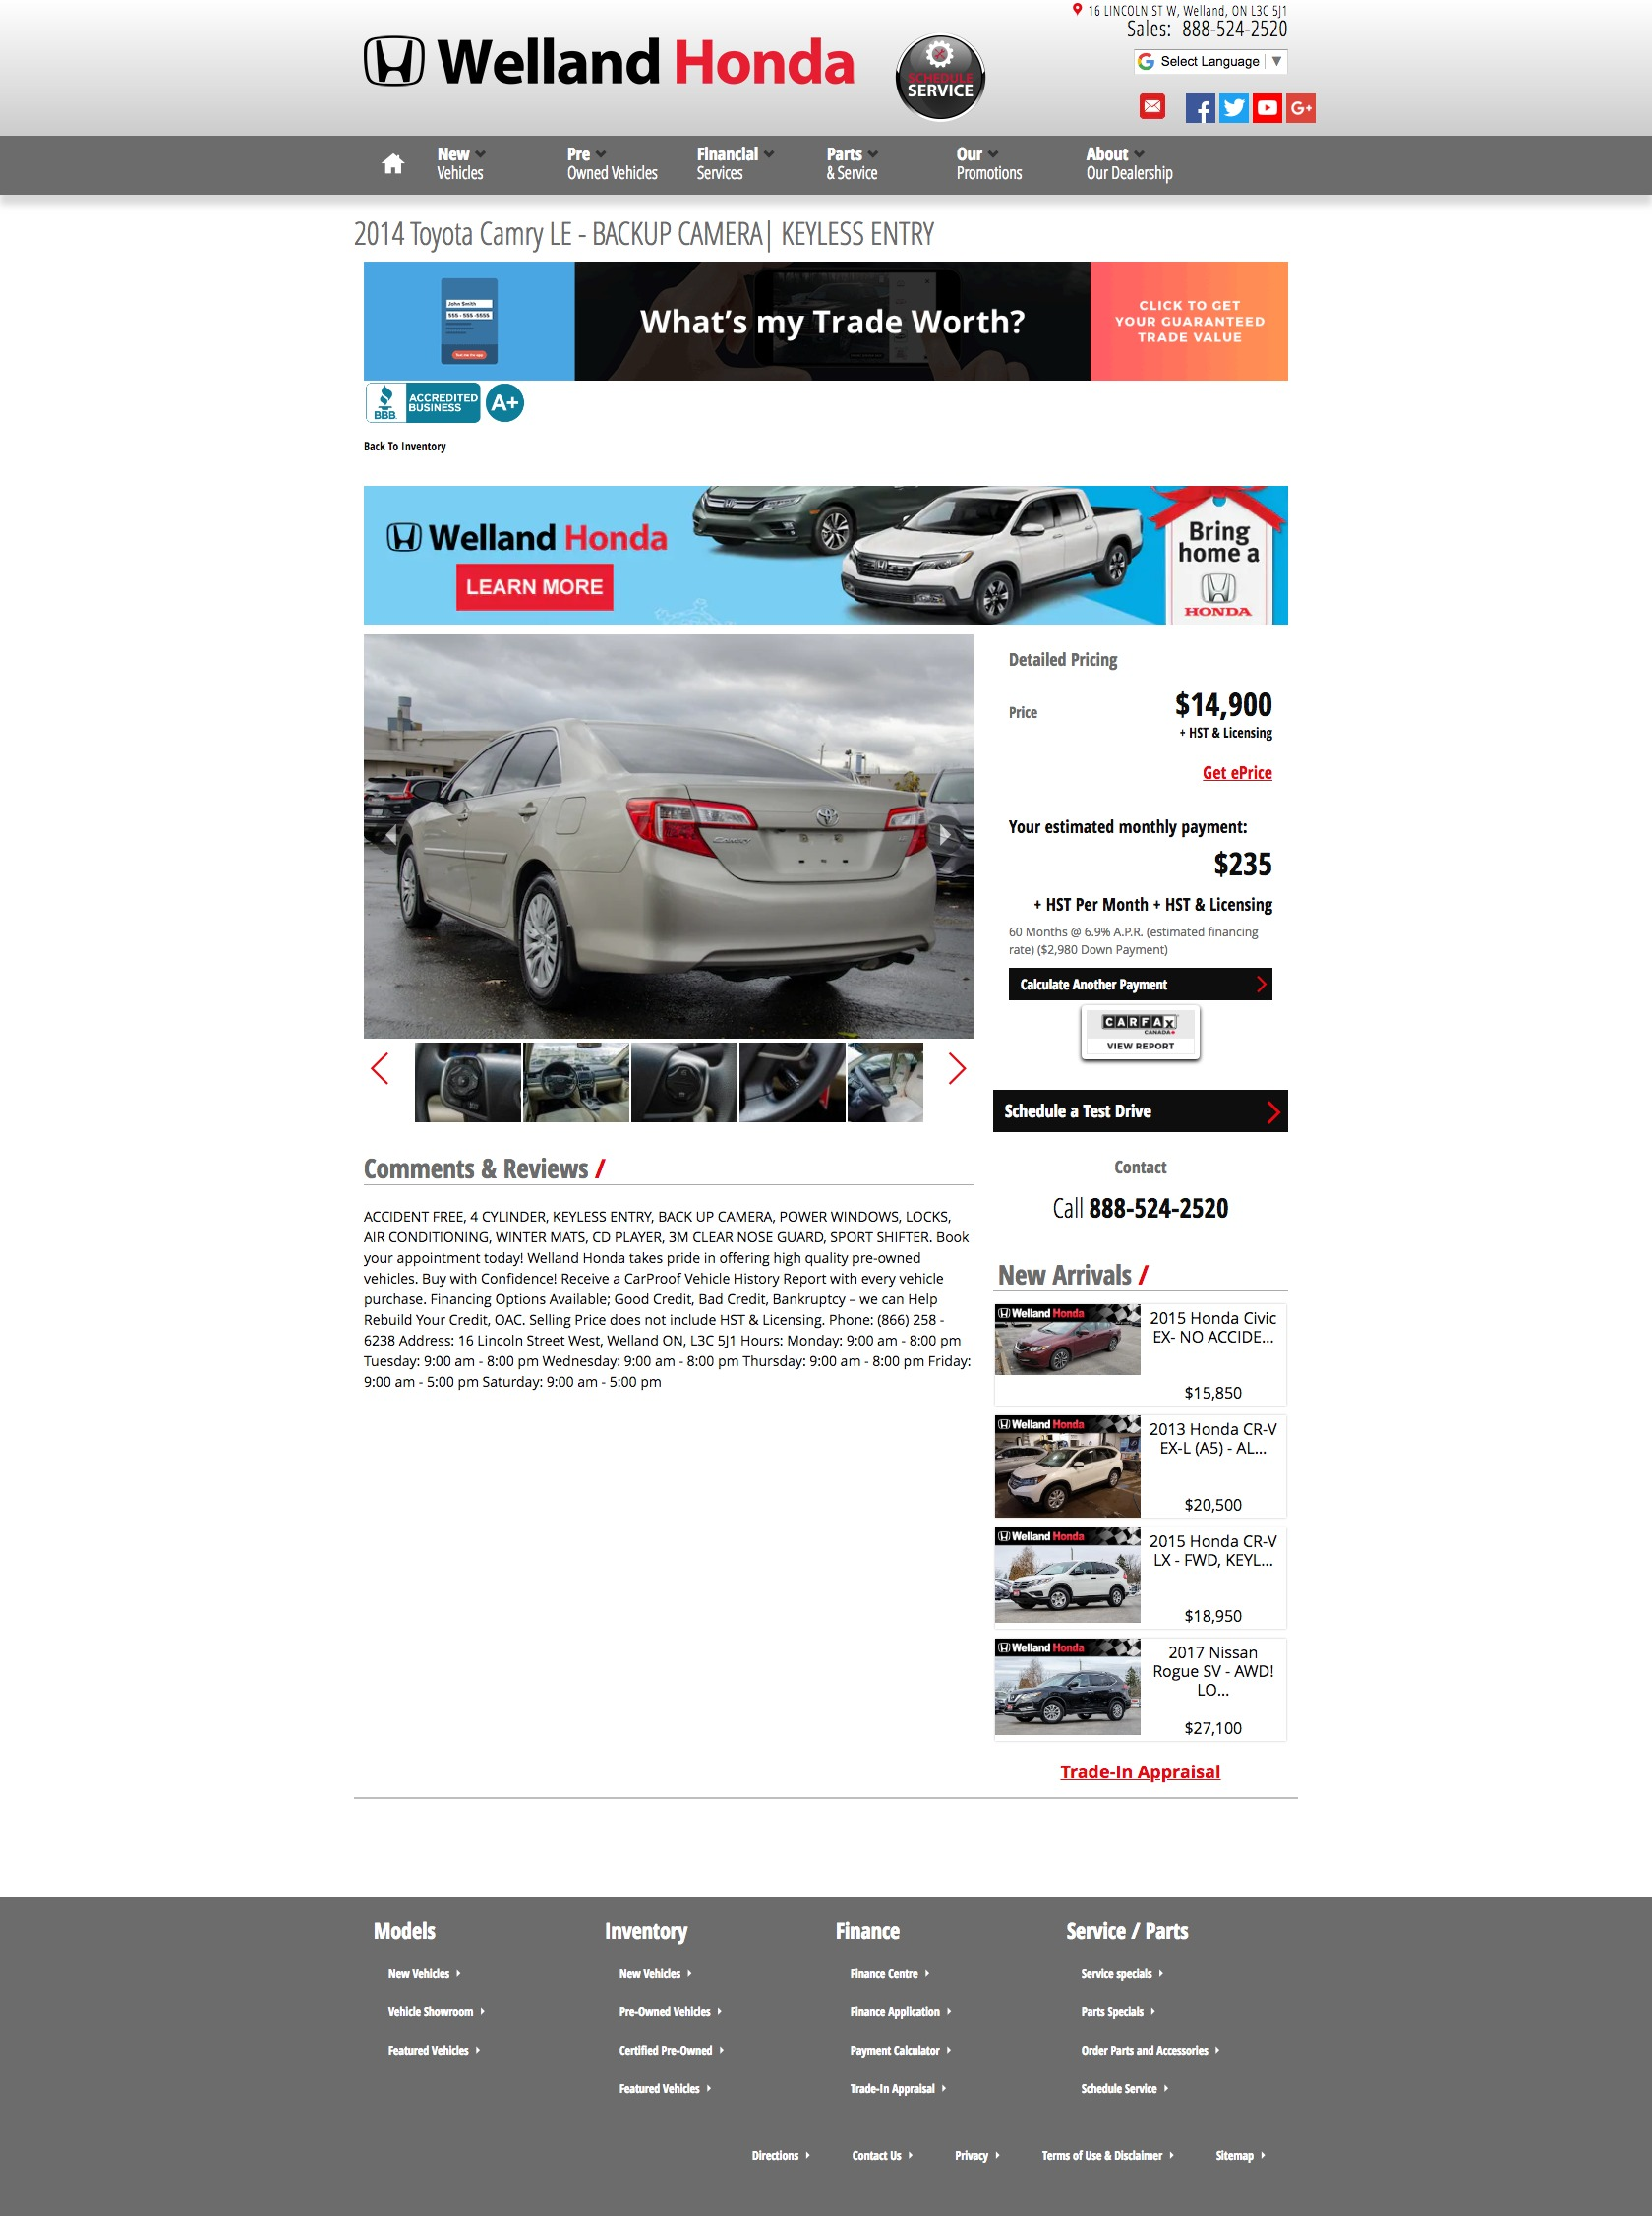car: (947, 1052, 968, 1086)
